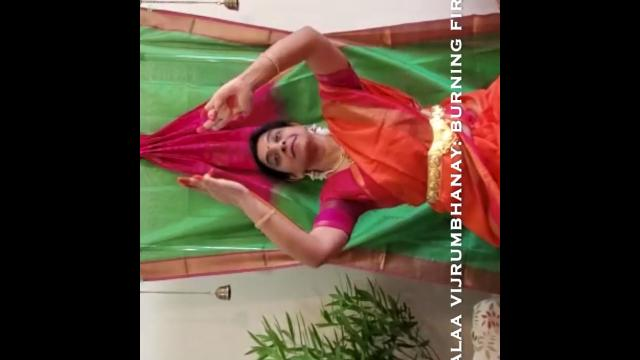tripataka: (192, 68, 266, 144)
